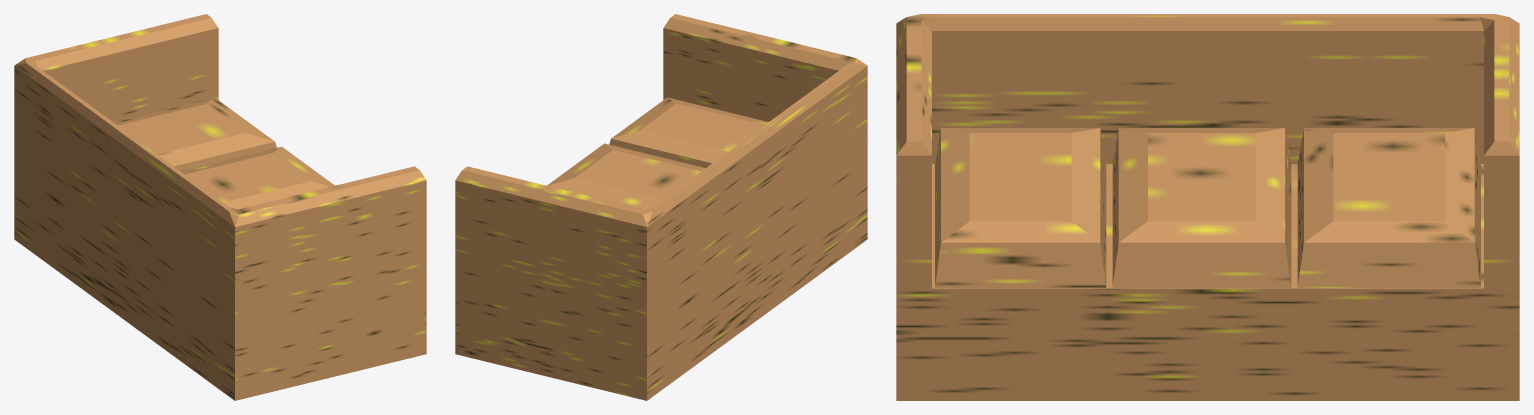
Rendered from sofa.glb.
3 renders of one model, left to right at view 1: azimuth 30°, elevation 25°; view 2: azimuth 150°, elevation 25°; view 3: azimuth 270°, elevation 25°, orthographic. The views are drawn at different scales.
Parts seen in each view (by area): view 1: Cube; view 2: Cube; view 3: Cube.
Boxes of the visible parts, x1,y1,x2,y2 form: Cube: [14, 14, 426, 400]; Cube: [455, 14, 867, 400]; Cube: [896, 14, 1519, 400].
Bounding box in the file's own units: 2 × 1.82 × 3.99.
Materials: 1 (1 with a texture image).
